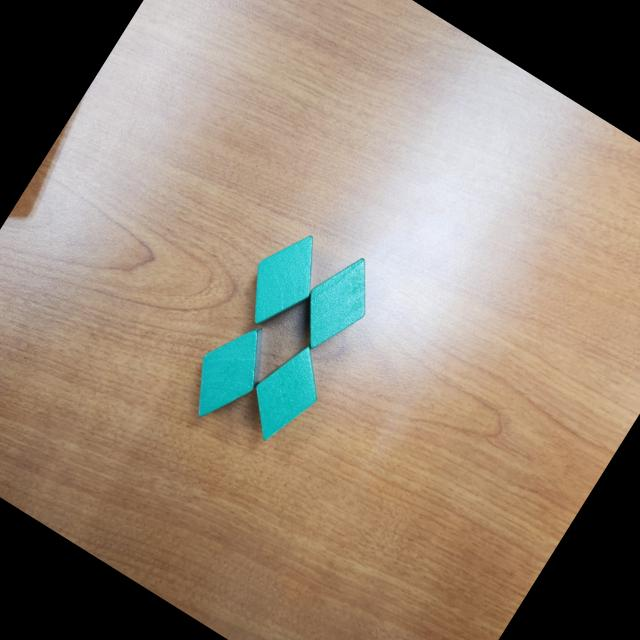green: (176, 309, 284, 432), (228, 220, 336, 342), (283, 244, 389, 365), (232, 334, 338, 454)
